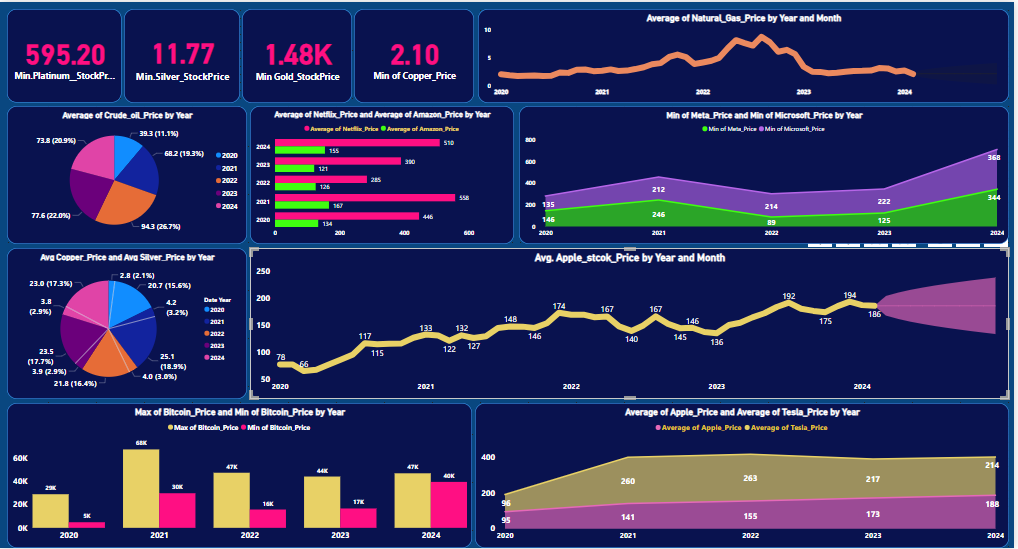

This screenshot's page, from the dashboard's own definition file:
{"tool":"powerbi","page":{"name":"Page 2","canvas":[2027,1091],"ordinal":1},"visuals":[{"type":"lineChart","fields":{"Y":["Avg(US Stock Market Dataset20-24.Apple_Price)"],"Category":["US Stock Market Dataset20-24.Date.Variation.Date Hierarchy.Year","US Stock Market Dataset20-24.Date.Variation.Date Hierarchy.Month"]},"box":[500,492,1518,302],"z":0},{"type":"clusteredColumnChart","fields":{"Y":["Max(US Stock Market Dataset20-24.Bitcoin_Price)","Min(US Stock Market Dataset20-24.Bitcoin_Price)"],"Category":["US Stock Market Dataset20-24.Date.Variation.Date Hierarchy.Year"]},"box":[14,802,930,290],"z":1000},{"type":"stackedAreaChart","fields":{"Category":["US Stock Market Dataset20-24.Date.Variation.Date Hierarchy.Year"],"Y":["Avg(US Stock Market Dataset20-24.Apple_Price)","Avg(US Stock Market Dataset20-24.Tesla_Price)"]},"box":[950,802,1068,290],"z":2000},{"type":"pieChart","title":"Avg Copper_Price and Avg Silver_Price by Year","fields":{"Y":["Avg(US Stock Market Dataset20-24.Copper_Price)","Avg(US Stock Market Dataset20-24.Silver_Price)"],"Category":["US Stock Market Dataset20-24.Date.Variation.Date Hierarchy.Year","US Stock Market Dataset20-24.Date.Variation.Date Hierarchy.Quarter"]},"box":[14,491,480,302],"z":3000},{"type":"stackedAreaChart","fields":{"Y":["Min(US Stock Market Dataset20-24.Meta_Price)","Min(US Stock Market Dataset20-24.Microsoft_Price)"],"Category":["US Stock Market Dataset20-24.Date.Variation.Date Hierarchy.Year"]},"box":[1038,208,980,276],"z":4000},{"type":"lineChart","fields":{"Y":["Avg(US Stock Market Dataset20-24.Natural_Gas_Price)"],"Category":["US Stock Market Dataset20-24.Date.Variation.Date Hierarchy.Year","US Stock Market Dataset20-24.Date.Variation.Date Hierarchy.Month"]},"box":[956,14,1062,188],"z":5000},{"type":"pieChart","fields":{"Y":["Avg(US Stock Market Dataset20-24.Crude_oil_Price)"],"Category":["US Stock Market Dataset20-24.Date.Variation.Date Hierarchy.Year"]},"box":[14.3,208.6,480,275.7],"z":6000},{"type":"clusteredBarChart","fields":{"Category":["US Stock Market Dataset20-24.Date.Variation.Date Hierarchy.Year"],"Y":["Avg(US Stock Market Dataset20-24.Netflix_Price)","Avg(US Stock Market Dataset20-24.Amazon_Price)"]},"box":[500,208,528,276],"z":7000},{"type":"card","fields":{"Values":["Min(US Stock Market Dataset20-24.Platinum_Price)"]},"box":[14.3,14.3,228.6,187.1],"z":8000},{"type":"card","fields":{"Values":["Min(US Stock Market Dataset20-24.Silver_Price)"]},"box":[248,14,232,188],"z":9000},{"type":"card","fields":{"Values":["Min(US Stock Market Dataset20-24.Gold_Price)"]},"box":[484,14,220,188],"z":10000},{"type":"card","fields":{"Values":["Min(US Stock Market Dataset20-24.Copper_Price)"]},"box":[708,14,240,188],"z":11000}]}

Visuals, with their boxes in screenshot pixels (x1, y1, x2, y2), scaled from the page's 2027x1091 canvas onto the 1018x549 screenshot:
lineChart - Avg(US Stock Market Dataset20-24.Apple_Price) x US Stock Market Dataset20-24.Date.Variation.Date Hierarchy.Year: Rect(251, 248, 1013, 400)
clusteredColumnChart - Max(US Stock Market Dataset20-24.Bitcoin_Price) x Min(US Stock Market Dataset20-24.Bitcoin_Price): Rect(7, 404, 474, 548)
stackedAreaChart - US Stock Market Dataset20-24.Date.Variation.Date Hierarchy.Year x Avg(US Stock Market Dataset20-24.Apple_Price): Rect(477, 404, 1013, 548)
"Avg Copper_Price and Avg Silver_Price by Year" pieChart: Rect(7, 247, 248, 399)
stackedAreaChart - Min(US Stock Market Dataset20-24.Meta_Price) x Min(US Stock Market Dataset20-24.Microsoft_Price): Rect(521, 105, 1013, 244)
lineChart - Avg(US Stock Market Dataset20-24.Natural_Gas_Price) x US Stock Market Dataset20-24.Date.Variation.Date Hierarchy.Year: Rect(480, 7, 1013, 102)
pieChart - Avg(US Stock Market Dataset20-24.Crude_oil_Price) x US Stock Market Dataset20-24.Date.Variation.Date Hierarchy.Year: Rect(7, 105, 248, 244)
clusteredBarChart - US Stock Market Dataset20-24.Date.Variation.Date Hierarchy.Year x Avg(US Stock Market Dataset20-24.Netflix_Price): Rect(251, 105, 516, 244)
card - Min(US Stock Market Dataset20-24.Platinum_Price): Rect(7, 7, 122, 101)
card - Min(US Stock Market Dataset20-24.Silver_Price): Rect(125, 7, 241, 102)
card - Min(US Stock Market Dataset20-24.Gold_Price): Rect(243, 7, 354, 102)
card - Min(US Stock Market Dataset20-24.Copper_Price): Rect(356, 7, 476, 102)
